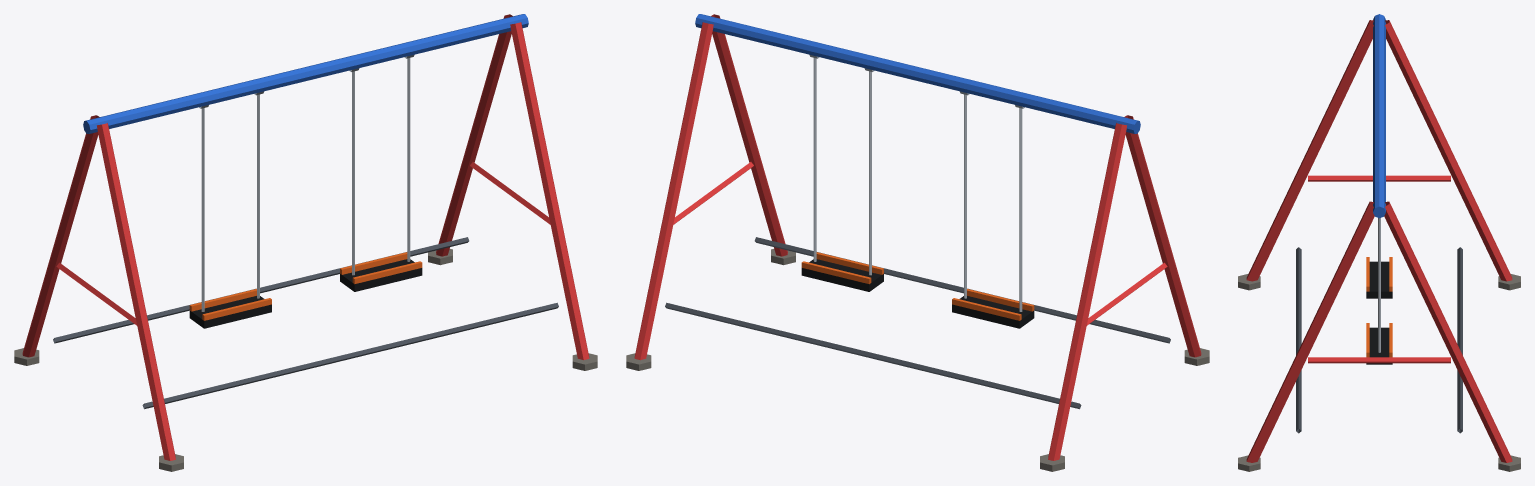
Rendered from swing_set.glb.
The picture shows the model from 3 angles, left to right: view 1: azimuth 30°, elevation 25°; view 2: azimuth 150°, elevation 25°; view 3: azimuth 270°, elevation 25°; orthographic projection. The views are drawn at different scales.
Parts seen in each view (by area): view 1: Body, Swing_2, Swing_1; view 2: Body, Swing_2, Swing_1; view 3: Body, Swing_2, Swing_1.
Part boxes in pixels (x1,y1,x2,y2): Body: (14,14,597,471); Swing_2: (340,54,422,291); Swing_1: (189,91,271,328); Body: (626,14,1209,471); Swing_2: (801,54,883,291); Swing_1: (952,91,1034,328); Body: (1238,14,1520,471); Swing_2: (1366,218,1392,364); Swing_1: (1366,257,1392,298).
Bounding box in the file's own units: 3.5 × 2.27 × 2.17.
